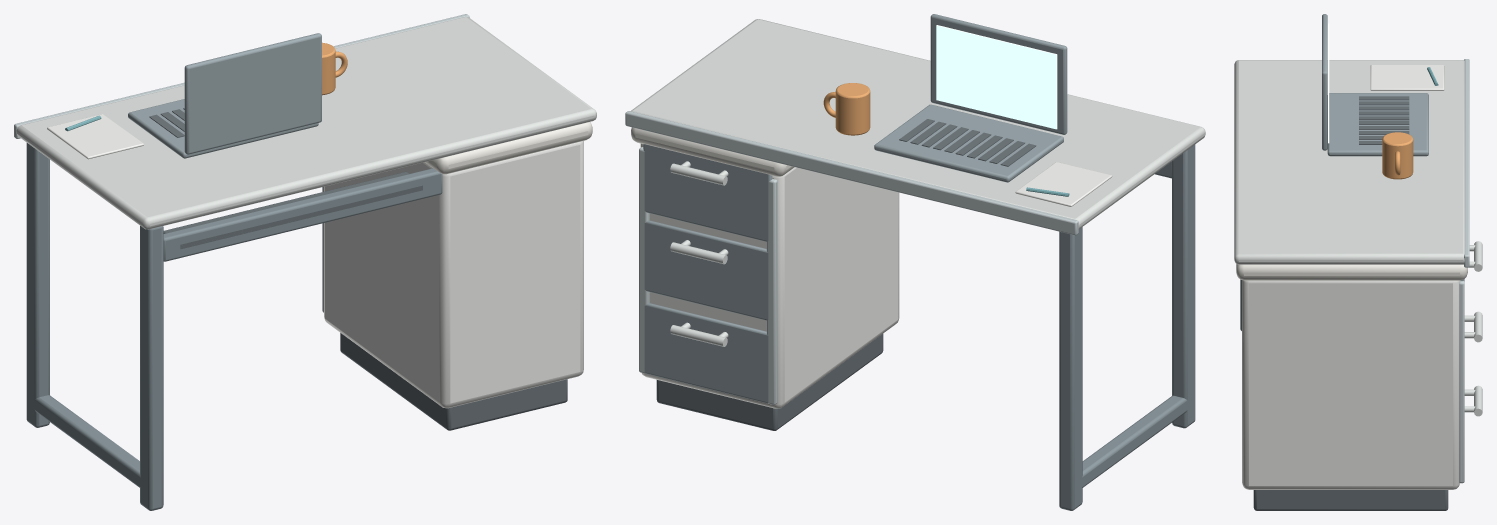
File: work_desk.glb
3 renders of one model, left to right at view 1: azimuth 30°, elevation 25°; view 2: azimuth 150°, elevation 25°; view 3: azimuth 270°, elevation 25°, orthographic. The views are drawn at different scales.
Visible parts, largest first — view 1: pedestal_body_white_painted, desk_top_warm_panel, legs_dark_alloy, laptop_lid_slate_panel, pedestal_plinth_graphite, pedestal_cap_warm_shell, notepad_white_painted, cable_tray_graphite, laptop_base_slate_panel, desk_edge_alloy, mug_orange; view 2: desk_top_warm_panel, pedestal_body_white_painted, legs_dark_alloy, laptop_display_screen_cyan, drawer_1_slate_panel, drawer_0_slate_panel, drawer_2_slate_panel, desk_edge_alloy, laptop_base_slate_panel, pedestal_plinth_graphite, pedestal_rails_alloy, laptop_lid_slate_panel (+7 smaller); view 3: pedestal_body_white_painted, desk_top_warm_panel, laptop_base_slate_panel, pedestal_plinth_graphite, pedestal_cap_warm_shell, laptop_keys_graphite, notepad_white_painted, mug_orange, desk_edge_alloy, pedestal_rails_alloy, laptop_lid_slate_panel, drawer_pull_1_satin_steel (+2 smaller).
Boxes of the visible parts, box(x1,y1,x2,y2) form: pedestal_body_white_painted: box(324, 141, 583, 408); desk_top_warm_panel: box(16, 16, 596, 229); legs_dark_alloy: box(26, 143, 442, 510); laptop_lid_slate_panel: box(184, 33, 321, 154); pedestal_plinth_graphite: box(340, 333, 567, 430); pedestal_cap_warm_shell: box(425, 122, 592, 174); notepad_white_painted: box(47, 114, 143, 159); cable_tray_graphite: box(163, 171, 422, 249); laptop_base_slate_panel: box(128, 99, 318, 158); desk_edge_alloy: box(14, 14, 469, 138); mug_orange: box(322, 42, 335, 95); desk_top_warm_panel: box(630, 19, 1205, 229); pedestal_body_white_painted: box(640, 143, 899, 408); legs_dark_alloy: box(1059, 144, 1195, 510); laptop_display_screen_cyan: box(936, 25, 1057, 129); drawer_1_slate_panel: box(644, 220, 768, 320); drawer_0_slate_panel: box(644, 303, 768, 403); drawer_2_slate_panel: box(643, 144, 772, 241); desk_edge_alloy: box(625, 111, 1078, 235); laptop_base_slate_panel: box(874, 104, 1063, 182); pedestal_plinth_graphite: box(656, 334, 883, 430); pedestal_rails_alloy: box(639, 147, 777, 404); laptop_lid_slate_panel: box(930, 14, 1067, 134); pedestal_body_white_painted: box(1242, 280, 1459, 489); desk_top_warm_panel: box(1234, 60, 1464, 264); laptop_base_slate_panel: box(1327, 93, 1428, 156); pedestal_plinth_graphite: box(1253, 490, 1448, 510); pedestal_cap_warm_shell: box(1236, 264, 1467, 280); laptop_keys_graphite: box(1359, 96, 1409, 144); notepad_white_painted: box(1370, 65, 1444, 90); mug_orange: box(1382, 132, 1413, 179); desk_edge_alloy: box(1464, 59, 1469, 267); pedestal_rails_alloy: box(1459, 280, 1464, 483); laptop_lid_slate_panel: box(1322, 14, 1327, 150); drawer_pull_1_satin_steel: box(1464, 311, 1482, 342).
Bounding box in the file's own units: 1.2 × 0.99 × 0.638.
